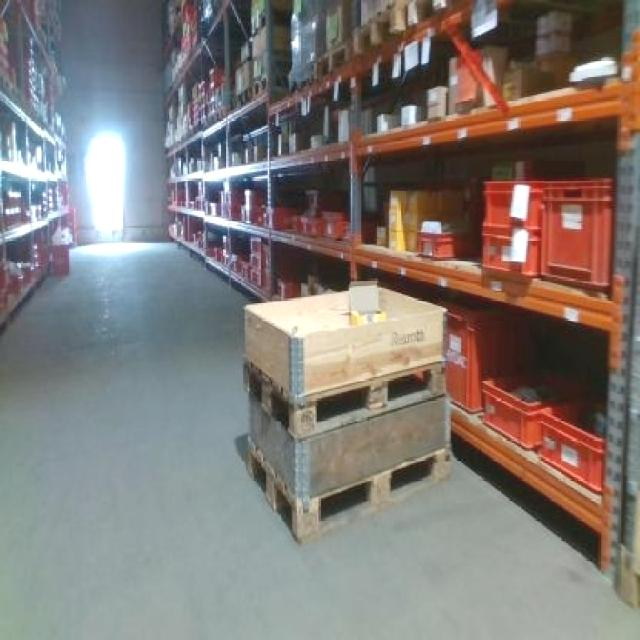floor: (0, 242, 637, 637)
pallets: (243, 280, 448, 538)
